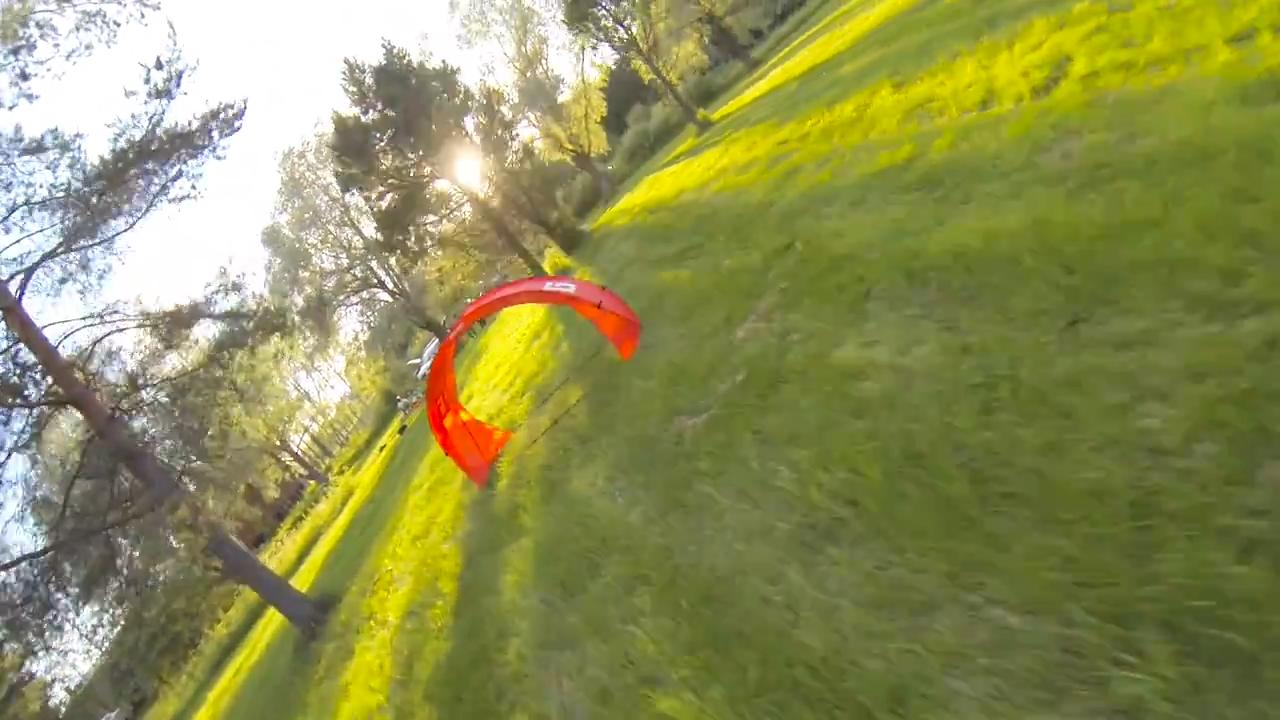gate: (419, 272, 643, 493)
